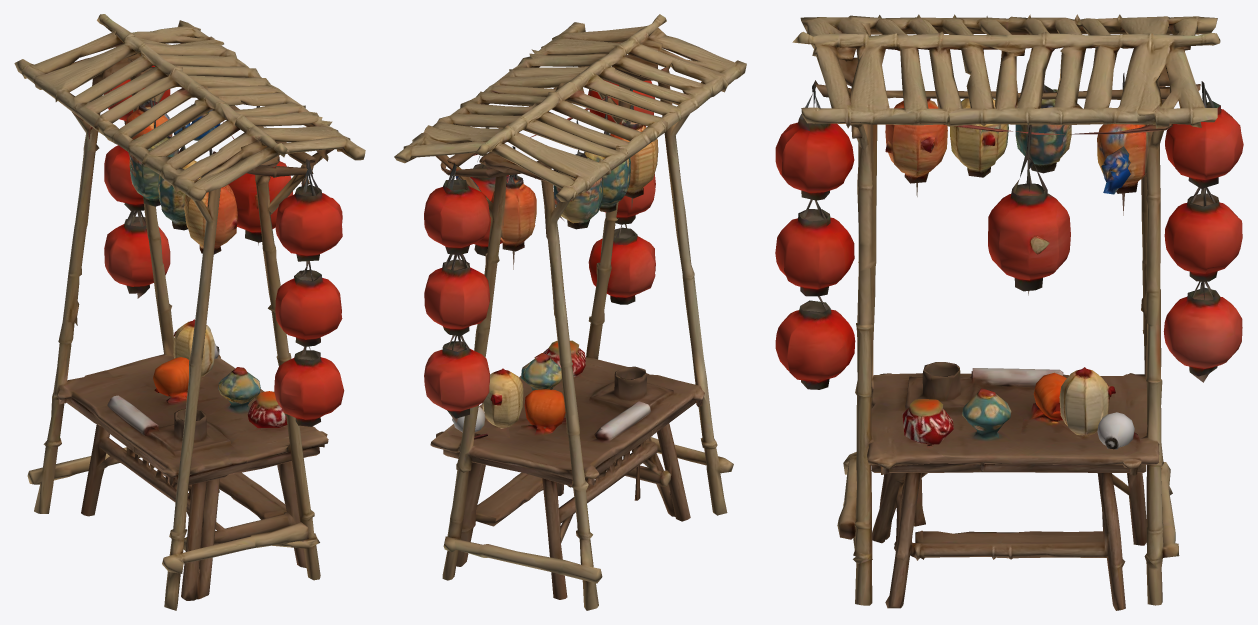
File: stall-lantern.glb
3 renders of one model, left to right at view 1: azimuth 30°, elevation 25°; view 2: azimuth 150°, elevation 25°; view 3: azimuth 270°, elevation 25°, orthographic. The views are drawn at different scales.
Visible parts, largest first — view 1: tripo_node_97280915-fd21-4bf3-9927-3ef6cf3adf93; view 2: tripo_node_97280915-fd21-4bf3-9927-3ef6cf3adf93; view 3: tripo_node_97280915-fd21-4bf3-9927-3ef6cf3adf93.
Part boxes in pixels (x1=…): tripo_node_97280915-fd21-4bf3-9927-3ef6cf3adf93: x1=14, y1=14, x2=365, y2=610; tripo_node_97280915-fd21-4bf3-9927-3ef6cf3adf93: x1=394, y1=14, x2=746, y2=610; tripo_node_97280915-fd21-4bf3-9927-3ef6cf3adf93: x1=775, y1=14, x2=1243, y2=610.
Size of the model in its own units: 0.4559 by 1 by 0.7881.
1 material, 1 textured.
